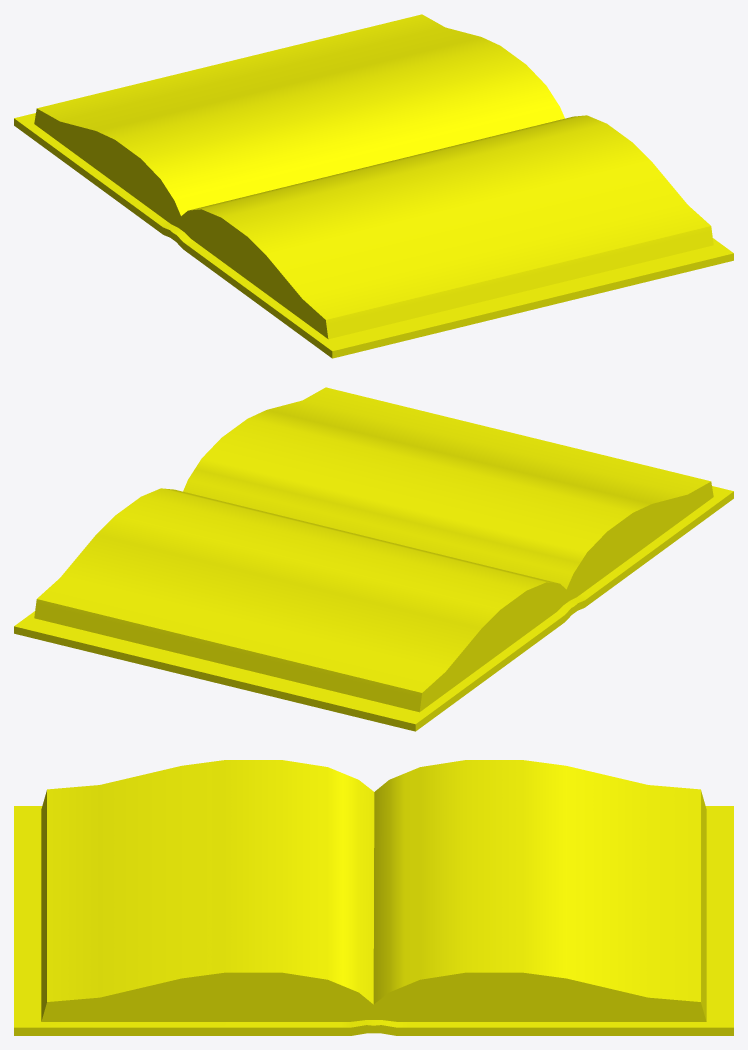
3 views of the same model, one above another, from view 1: azimuth 30°, elevation 25°; view 2: azimuth 150°, elevation 25°; view 3: azimuth 270°, elevation 25° (orthographic). The views are drawn at different scales.
Visible parts, largest first — view 1: Book_01_Open; view 2: Book_01_Open; view 3: Book_01_Open.
Boxes of the visible parts, x1,y1,x2,y2 form: Book_01_Open: (14, 14, 733, 358); Book_01_Open: (14, 387, 733, 731); Book_01_Open: (14, 760, 733, 1035).
Size of the model in its own units: 0.0123 by 0.00151 by 0.0168.
1 material, 1 textured.
